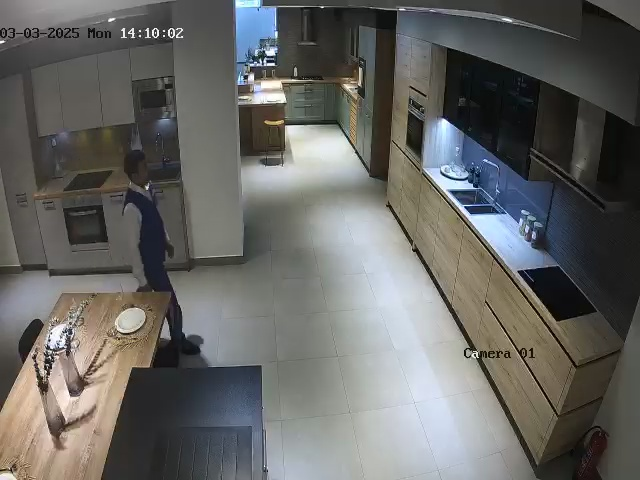employee: (121, 150, 202, 358)
